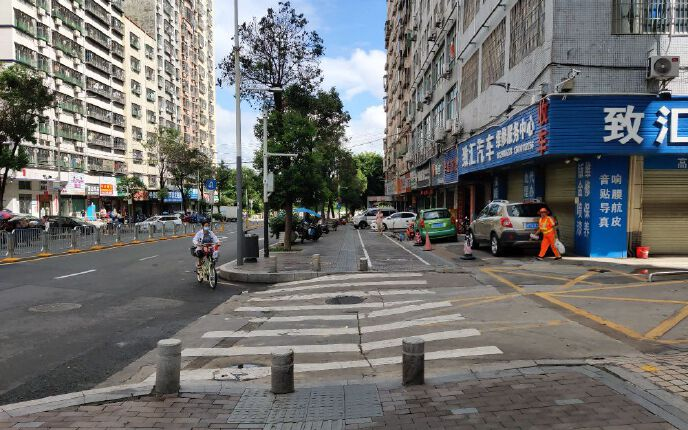店招/建筑: (381, 94, 687, 200), (1, 164, 218, 204)
